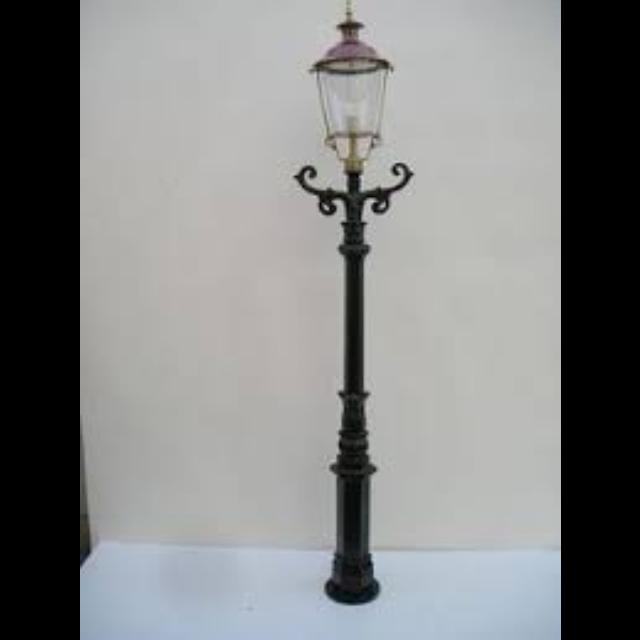Street-Lamp: (287, 0, 418, 600)
